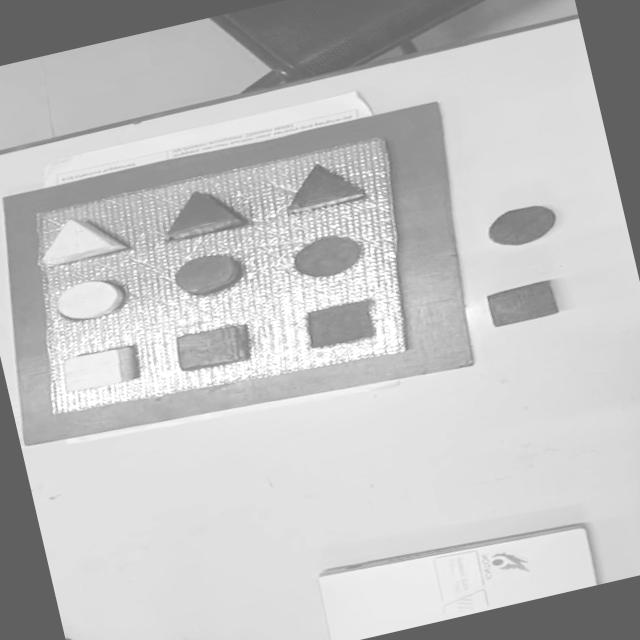bcircle: (482, 199, 562, 252)
bcube: (484, 278, 560, 328)
btriangle: (277, 153, 369, 216)
mtcircle: (286, 229, 366, 283)
mtcube: (300, 296, 381, 352)
rcircle: (170, 248, 242, 299)
rcube: (172, 320, 254, 375)
rtriangle: (156, 182, 243, 243)
wb: (25, 130, 415, 420)
ycircle: (50, 272, 130, 326)
ycube: (56, 342, 142, 396)
ytriangle: (30, 206, 128, 269)
